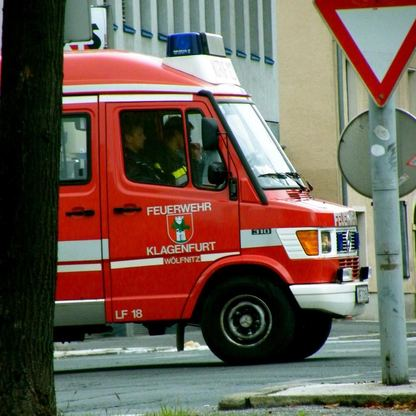ambulance: (0, 32, 372, 364)
